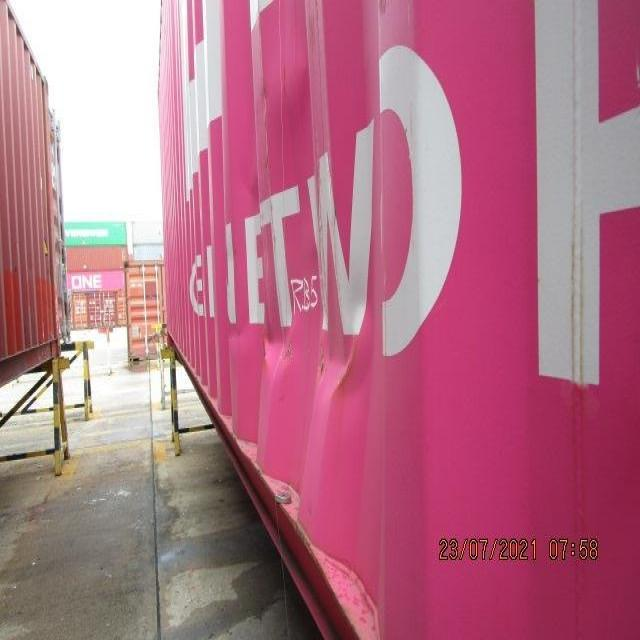Dent: (221, 191, 393, 461)
